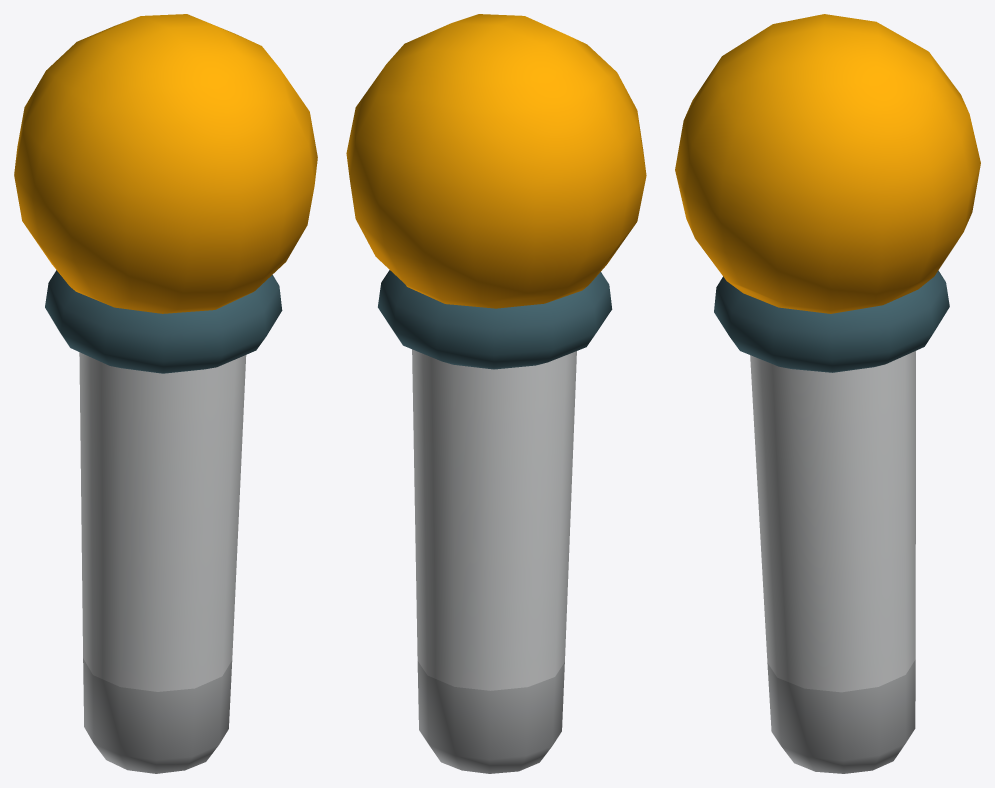
File: Audio_001.fbx
3 renders of one model, left to right at view 1: azimuth 30°, elevation 25°; view 2: azimuth 150°, elevation 25°; view 3: azimuth 270°, elevation 25°, orthographic.
Parts seen in each view (by area): view 1: Audio_001; view 2: Audio_001; view 3: Audio_001.
Boxes of the visible parts, x1,y1,x2,y2 form: Audio_001: (14, 14, 317, 773); Audio_001: (346, 14, 646, 773); Audio_001: (675, 14, 980, 773).
Size of the model in its own units: 8.34 by 8.34 by 22.11.
